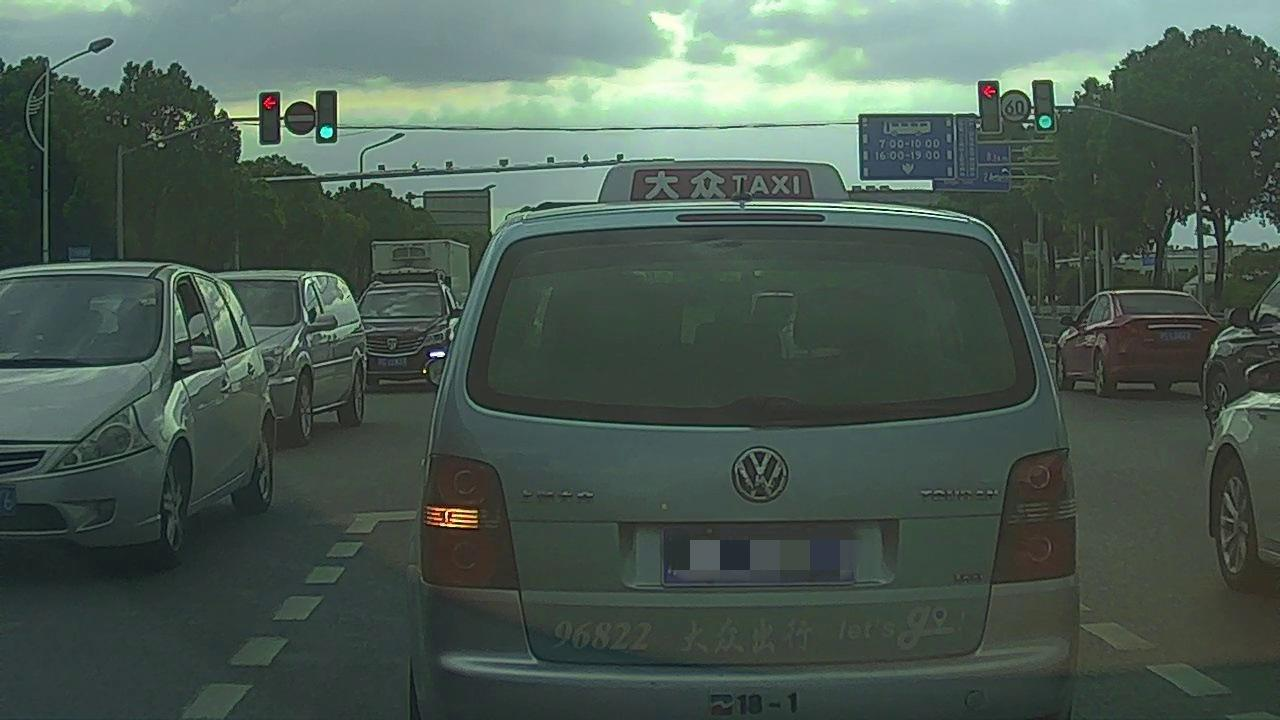traffic_light: (977, 79, 1000, 139), (1033, 80, 1055, 133), (257, 94, 279, 146), (317, 91, 334, 140)
